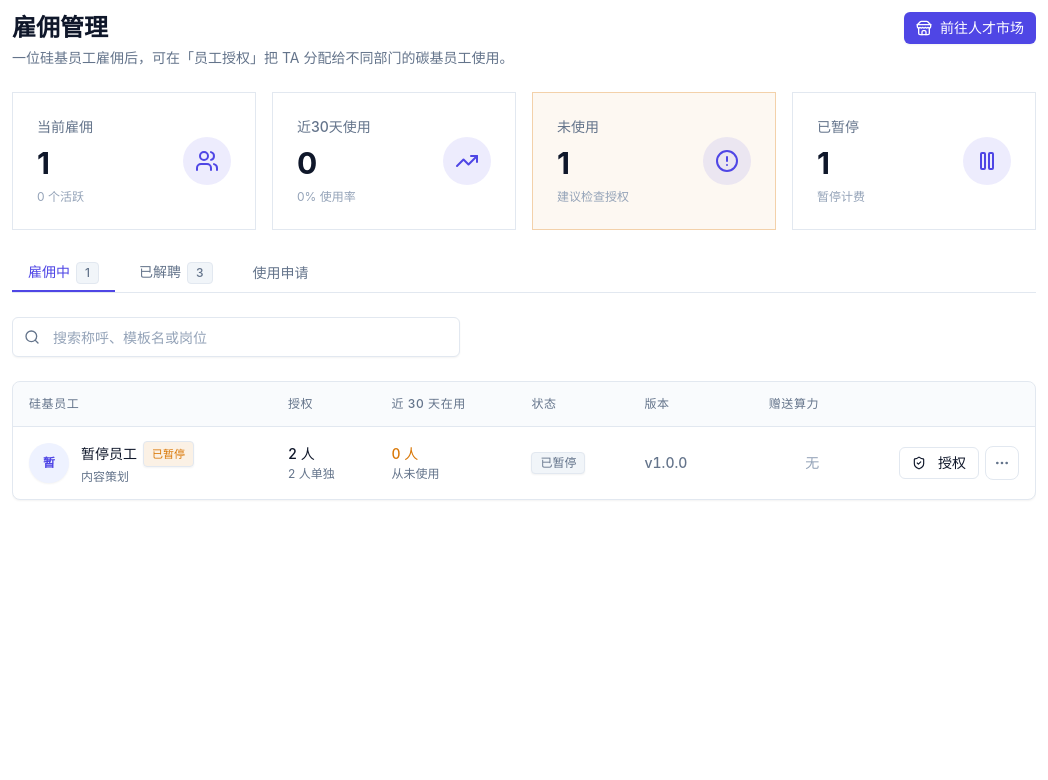
it: 雇佣管理分类 › 雇佣解除后从默认列表移出，保留到历史分类
Expected: the link "在岗员工" is not shown
Expected: the button "雇佣中 1" is shown, x1=12 y1=254 x2=115 y2=292
Click the button "已解聘 3": (176, 273) x1=123 y1=254 x2=228 y2=292
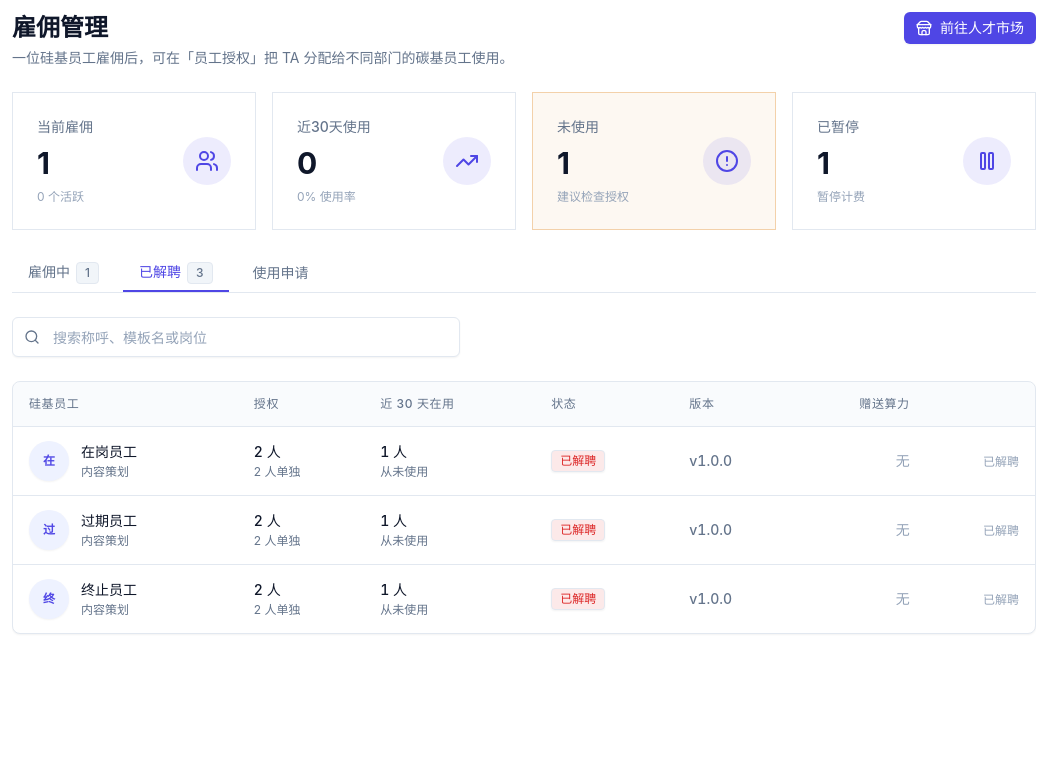
Expected: the link "在岗员工" is shown, x1=81 y1=442 x2=137 y2=462
